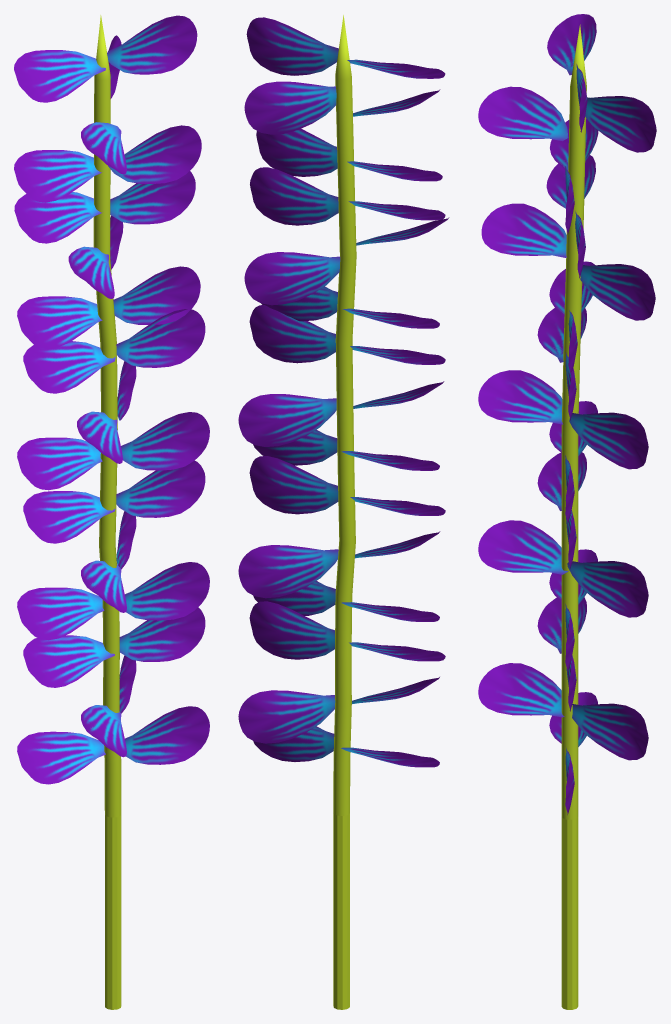
The model's file is leafblend.fbx.
3 renders of one model, left to right at view 1: azimuth 30°, elevation 25°; view 2: azimuth 150°, elevation 25°; view 3: azimuth 270°, elevation 25°, orthographic.
Visible parts, largest first — view 1: Plane.017, Plane.001; view 2: Plane.017, Plane.001; view 3: Plane.017, Plane.001.
Part boxes in pixels (x1,y1,x2,y2): Plane.017: (14, 15, 209, 817); Plane.001: (105, 814, 121, 1009); Plane.017: (238, 15, 449, 815); Plane.001: (333, 813, 349, 1009); Plane.017: (478, 14, 656, 819); Plane.001: (561, 817, 578, 1009).
Bounding box in the file's own units: 408 × 2004 × 331.
